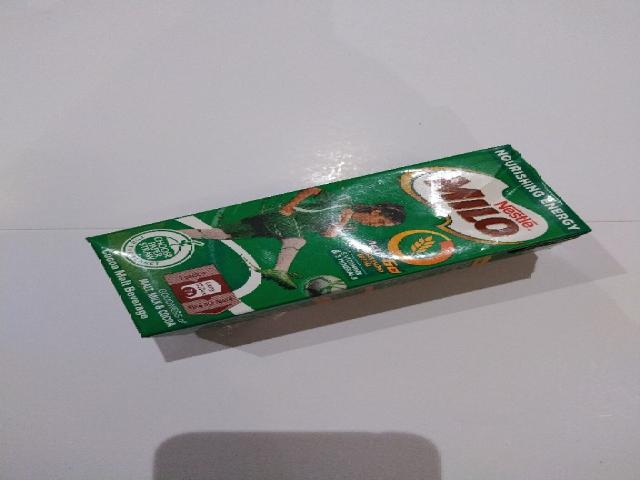drink_box: (88, 146, 590, 336)
